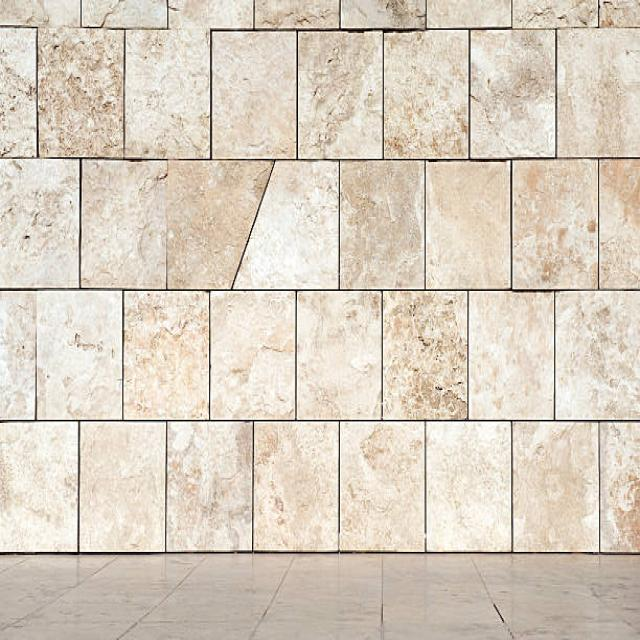Sedimentary: (1, 1, 640, 548)
